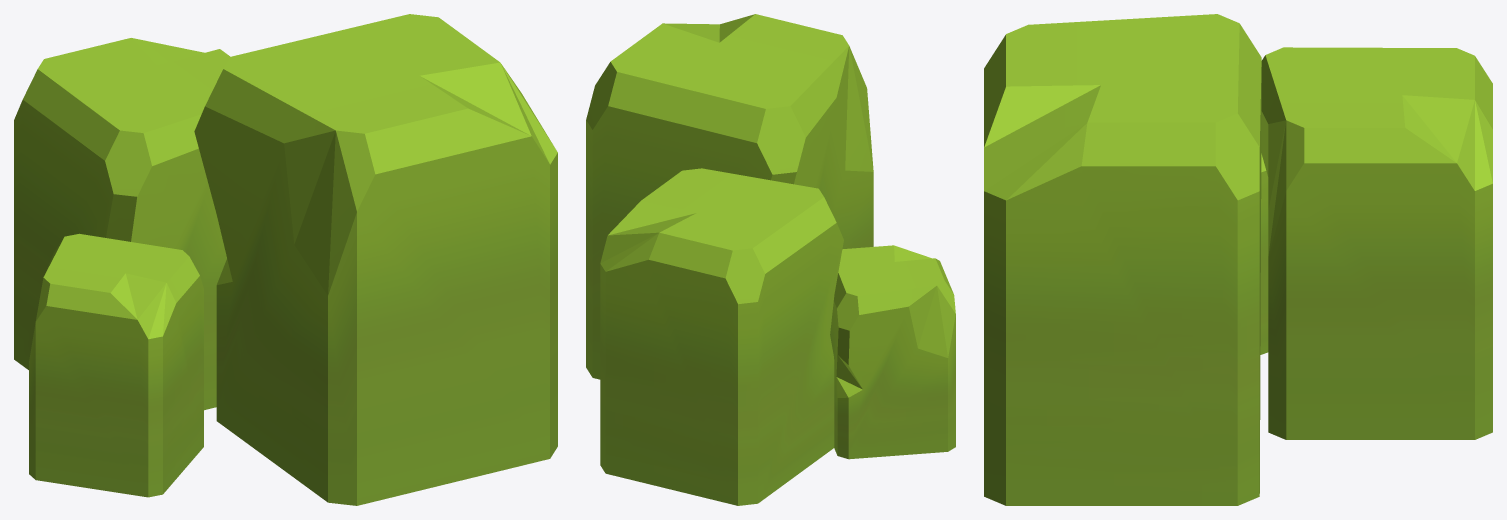
The model's file is RockS_4.obj.
The picture shows the model from 3 angles, left to right: view 1: azimuth 30°, elevation 25°; view 2: azimuth 150°, elevation 25°; view 3: azimuth 270°, elevation 25°; orthographic projection. The views are drawn at different scales.
Visible parts, largest first — view 1: Cube.026; view 2: Cube.026; view 3: Cube.026.
Part boxes in pixels (<box>): Cube.026: <box>14,14,557,505</box>; Cube.026: <box>586,14,955,505</box>; Cube.026: <box>984,14,1492,505</box>.
Size of the model in its own units: 0.9274 by 0.7532 by 0.9257.
